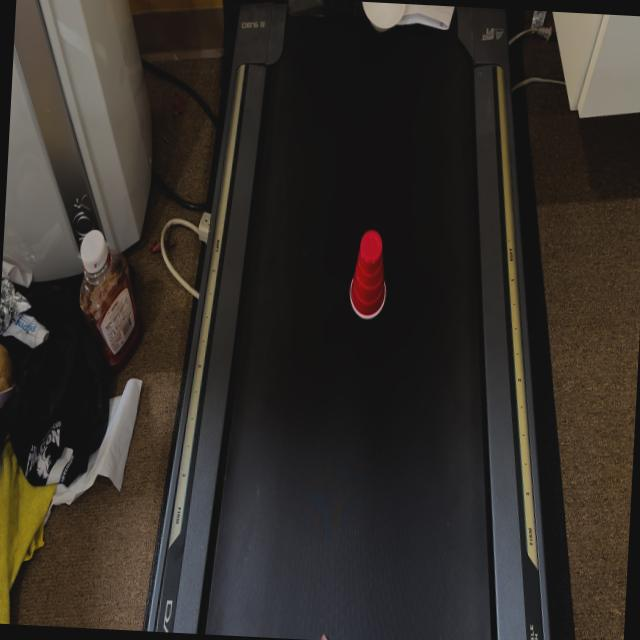Recycle: (350, 232, 390, 320), (362, 1, 454, 32)
